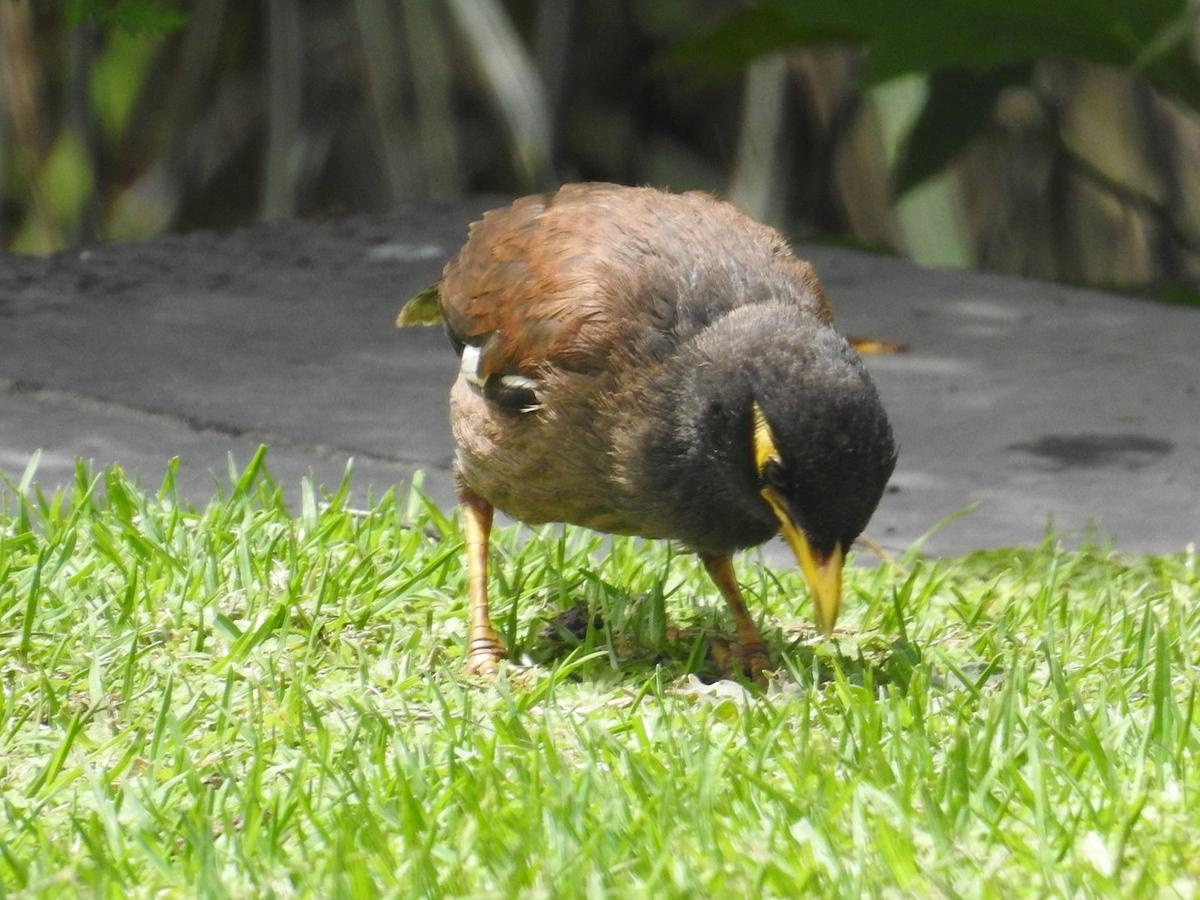myna: (423, 157, 924, 707)
